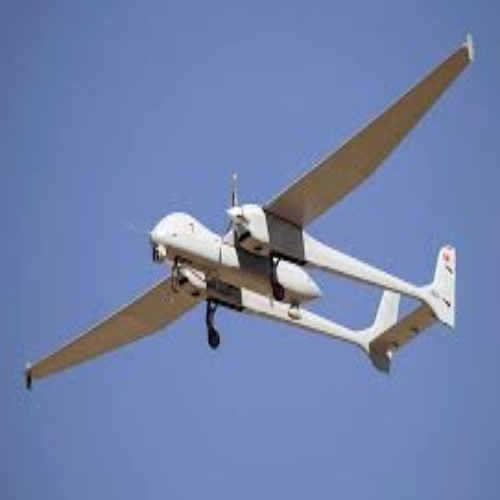uav: (22, 37, 471, 397)
